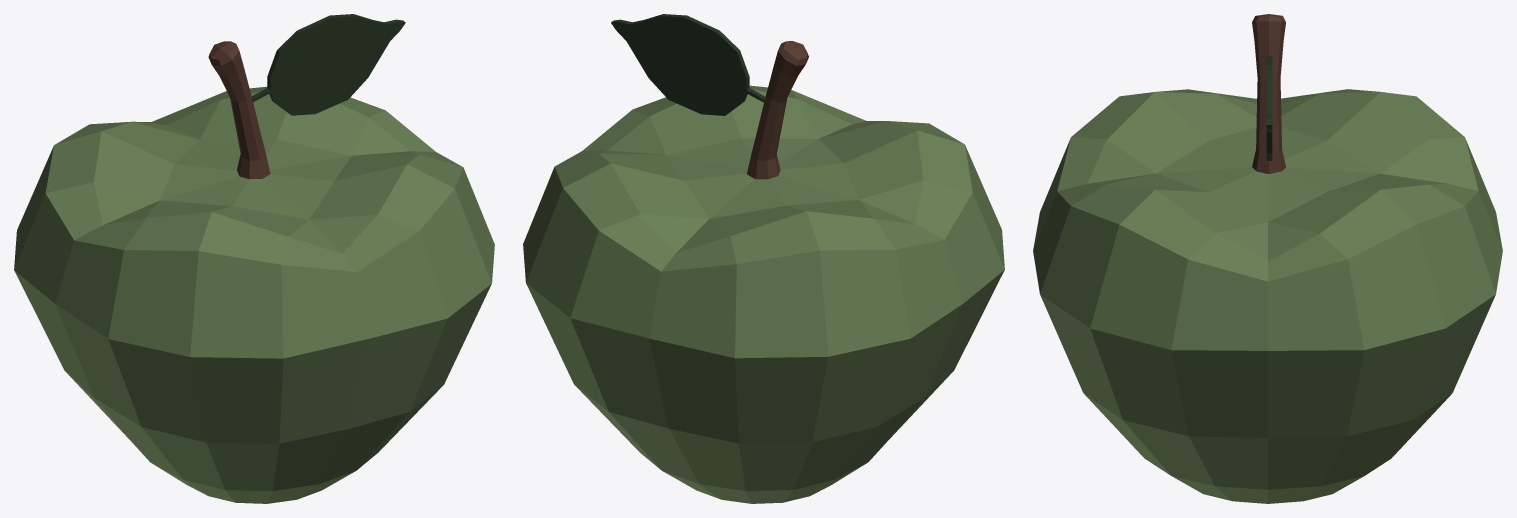
File: apple.glb
3 renders of one model, left to right at view 1: azimuth 30°, elevation 25°; view 2: azimuth 150°, elevation 25°; view 3: azimuth 270°, elevation 25°, orthographic. The views are drawn at different scales.
Visible parts, largest first — view 1: Apple_Green; view 2: Apple_Green; view 3: Apple_Green.
Boxes of the visible parts, box(x1,y1,x2,y2) form: Apple_Green: box(14, 14, 494, 503); Apple_Green: box(523, 14, 1004, 503); Apple_Green: box(1033, 14, 1502, 503).
Size of the model in its own units: 0.8025 by 0.8517 by 0.7987.
